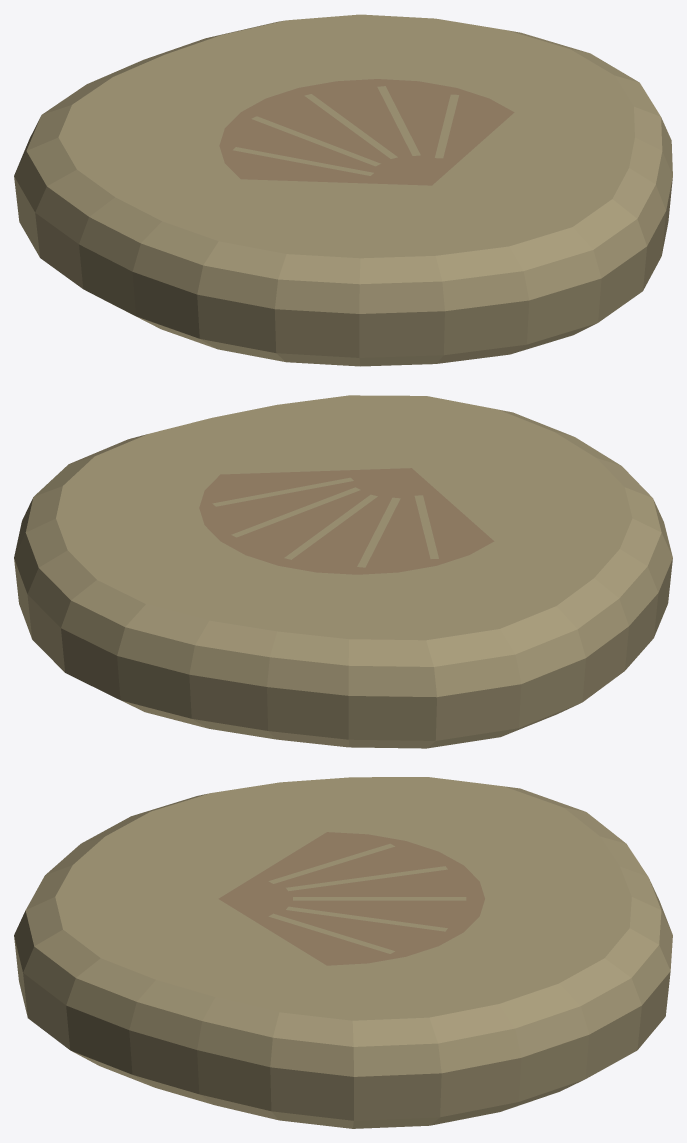
The model's file is steppingStoneA.glb.
3 views of the same model, one above another, from view 1: azimuth 30°, elevation 25°; view 2: azimuth 150°, elevation 25°; view 3: azimuth 270°, elevation 25° (orthographic).
Visible parts, largest first — view 1: steppingStoneA; view 2: steppingStoneA; view 3: steppingStoneA.
Boxes of the visible parts, box(x1,y1,x2,y2) form: steppingStoneA: box(14, 14, 672, 366); steppingStoneA: box(14, 395, 672, 748); steppingStoneA: box(14, 777, 672, 1128).
Bounding box in the file's own units: 1 × 0.18 × 1.
Materials: 1 (1 with a texture image).
